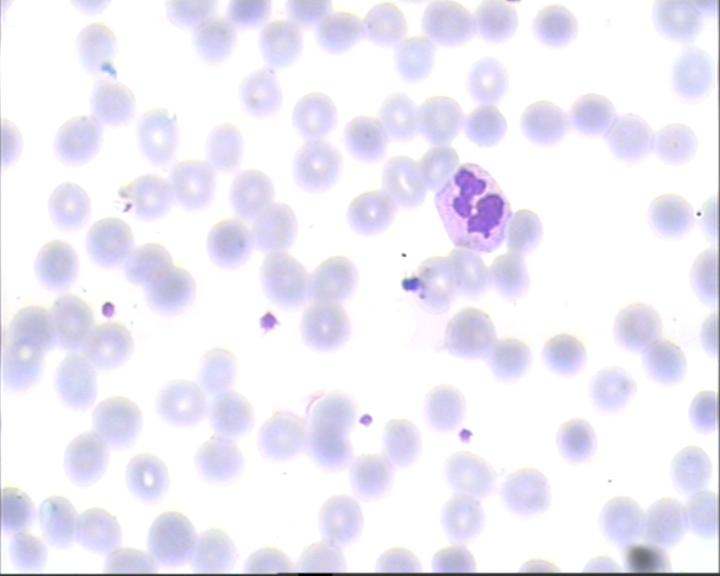neut: (433, 165, 510, 252)
